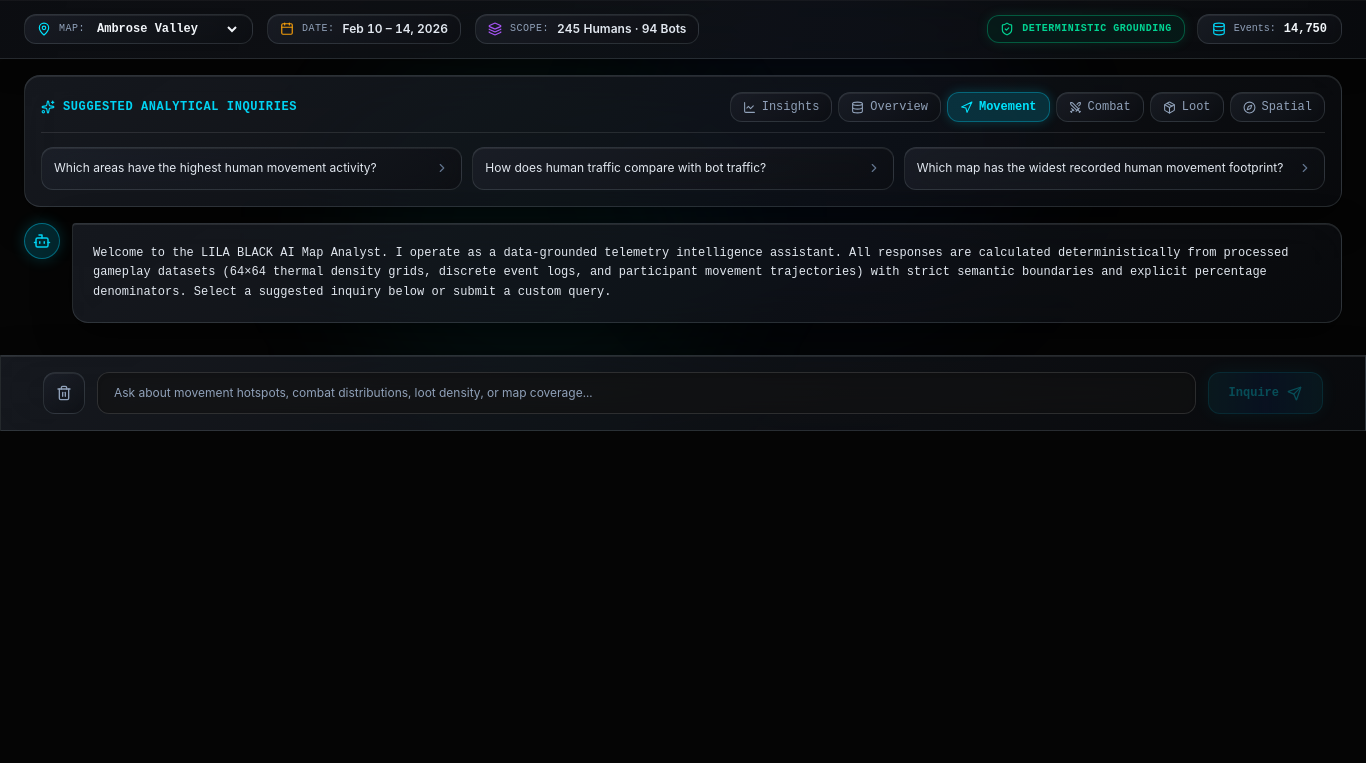
Test: AnalystPage Integration Tests › rejects unsupported speculative inquiries with boundary disclosure
Replace the text in the field with placeholder "Ask about movement hotspots" with "Who is the best player with highest K/D?" at (646, 393), box [97,372,1196,414]
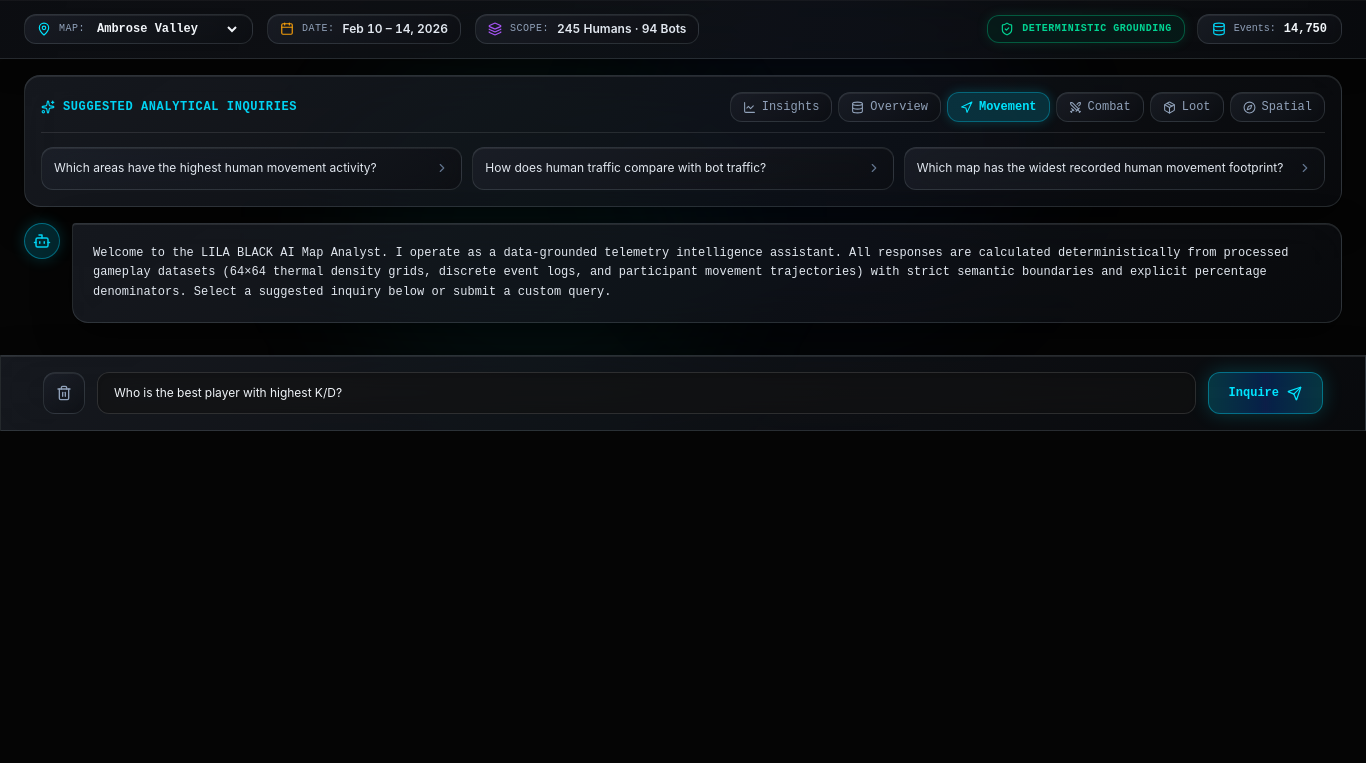
Click the button "Inquire".
click(1265, 393)  # box [1208,372,1323,414]
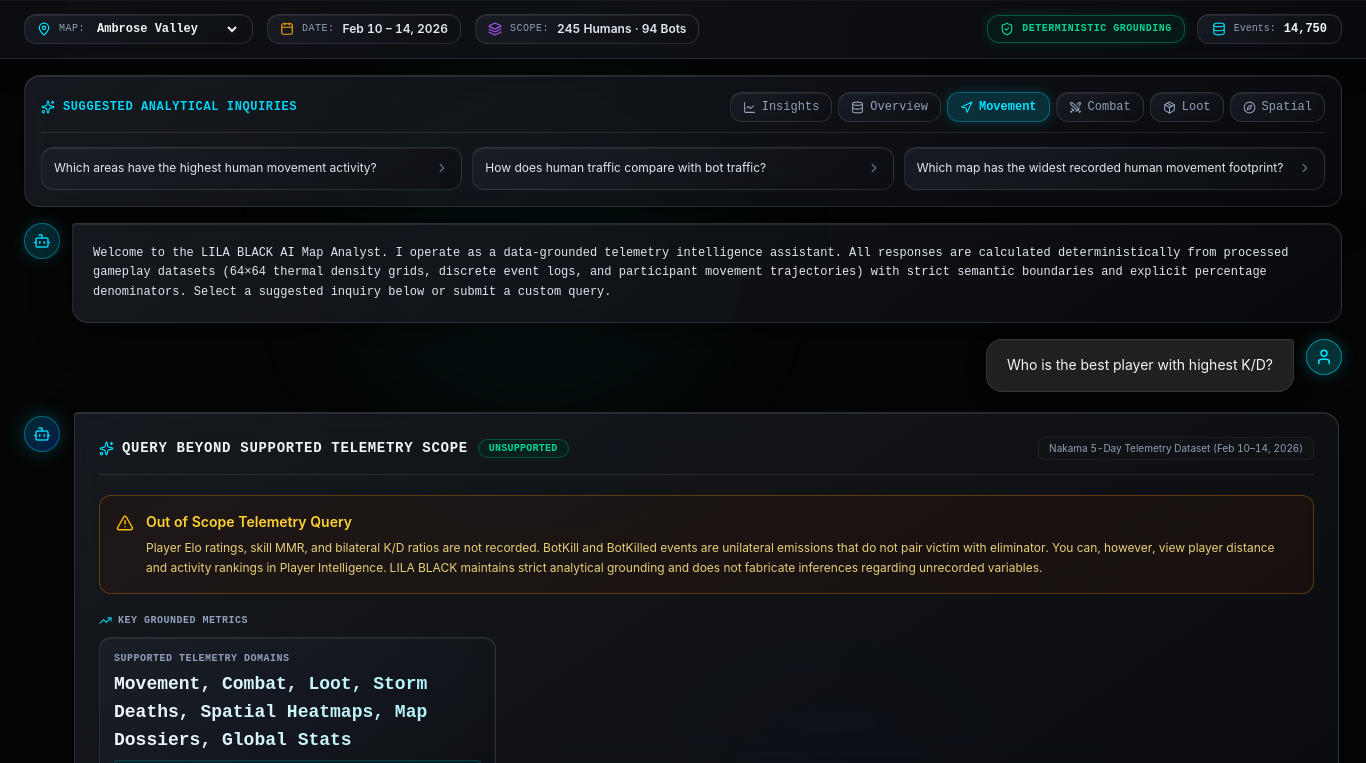
Result: the text "Query Beyond Supported Telemetry Scope" is shown at [122,438,468,458]
Result: the text "LILA BLACK maintains strict analytical grounding" is shown at [146,540,1275,575]
